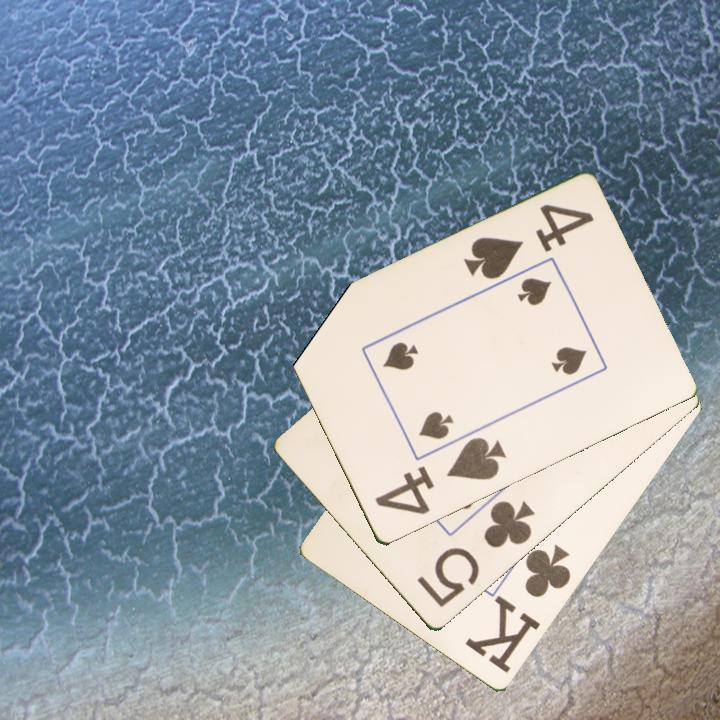4s: (371, 434, 509, 519), (460, 200, 597, 283)
5c: (413, 497, 538, 611)
Kc: (462, 541, 574, 677)
